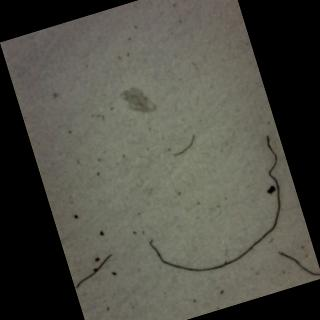Microplastic: (117, 109, 306, 288), (268, 230, 320, 290), (65, 246, 126, 293), (162, 126, 210, 166)
